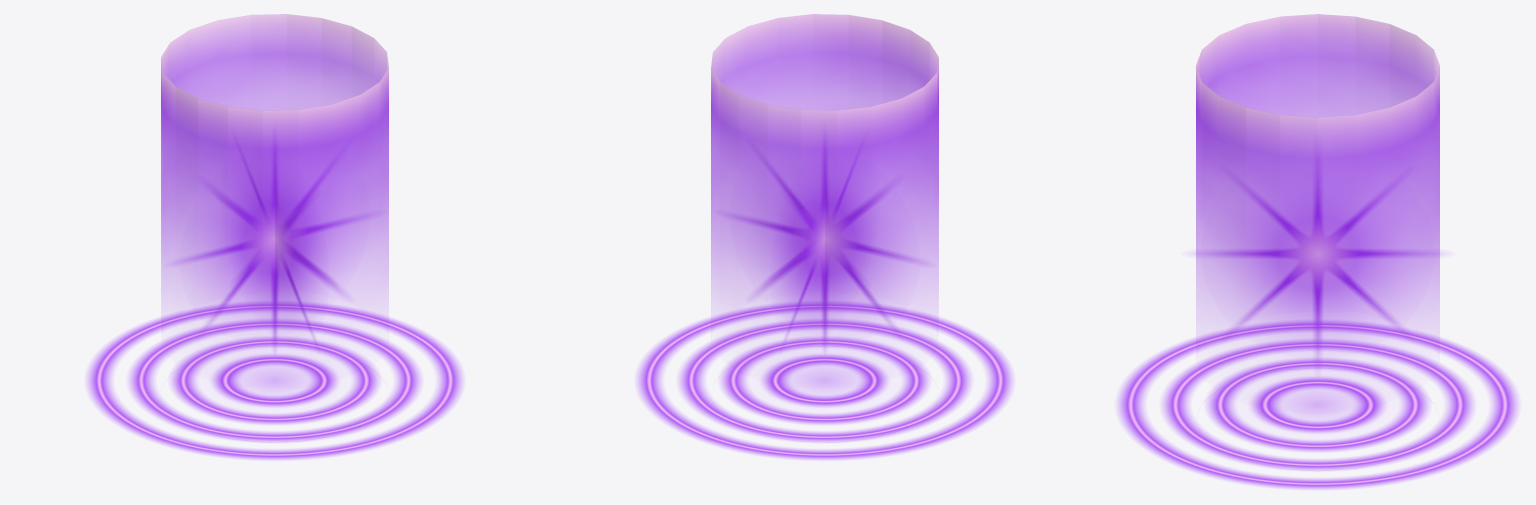
Rendered from fx_boom_asc.glb.
The picture shows the model from 3 angles, left to right: view 1: azimuth 30°, elevation 25°; view 2: azimuth 150°, elevation 25°; view 3: azimuth 270°, elevation 25°; orthographic projection. The views are drawn at different scales.
Visible parts, largest first — view 1: fx_boom_wall, fx_boom_ring, fx_boom_flash; view 2: fx_boom_wall, fx_boom_ring, fx_boom_flash; view 3: fx_boom_wall, fx_boom_ring, fx_boom_flash.
Boxes of the visible parts, x1,y1,x2,y2 form: fx_boom_wall: [161, 14, 388, 442]; fx_boom_ring: [87, 302, 462, 459]; fx_boom_flash: [180, 148, 366, 348]; fx_boom_wall: [711, 14, 938, 442]; fx_boom_ring: [637, 302, 1012, 459]; fx_boom_flash: [733, 144, 919, 348]; fx_boom_wall: [1196, 14, 1439, 371]; fx_boom_ring: [1118, 321, 1517, 489]; fx_boom_flash: [1201, 161, 1433, 361].
Size of the model in its own units: 1 by 0.96 by 1.
Materials: 3 (3 with a texture image).
